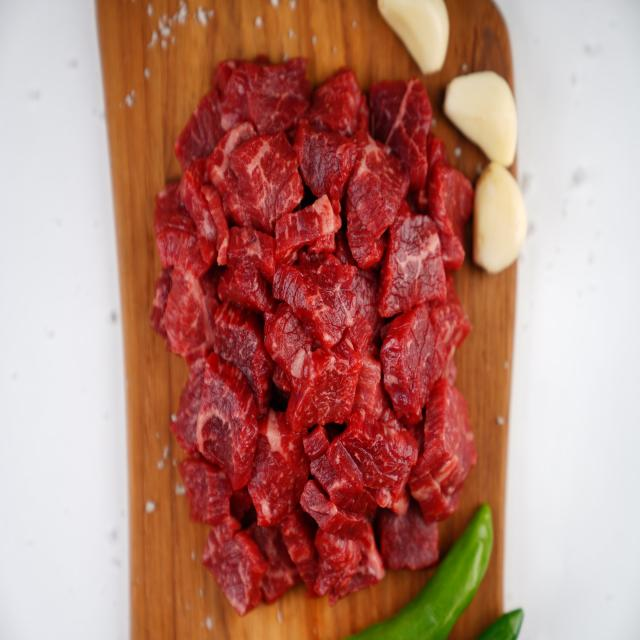beef: (207, 101, 456, 543)
